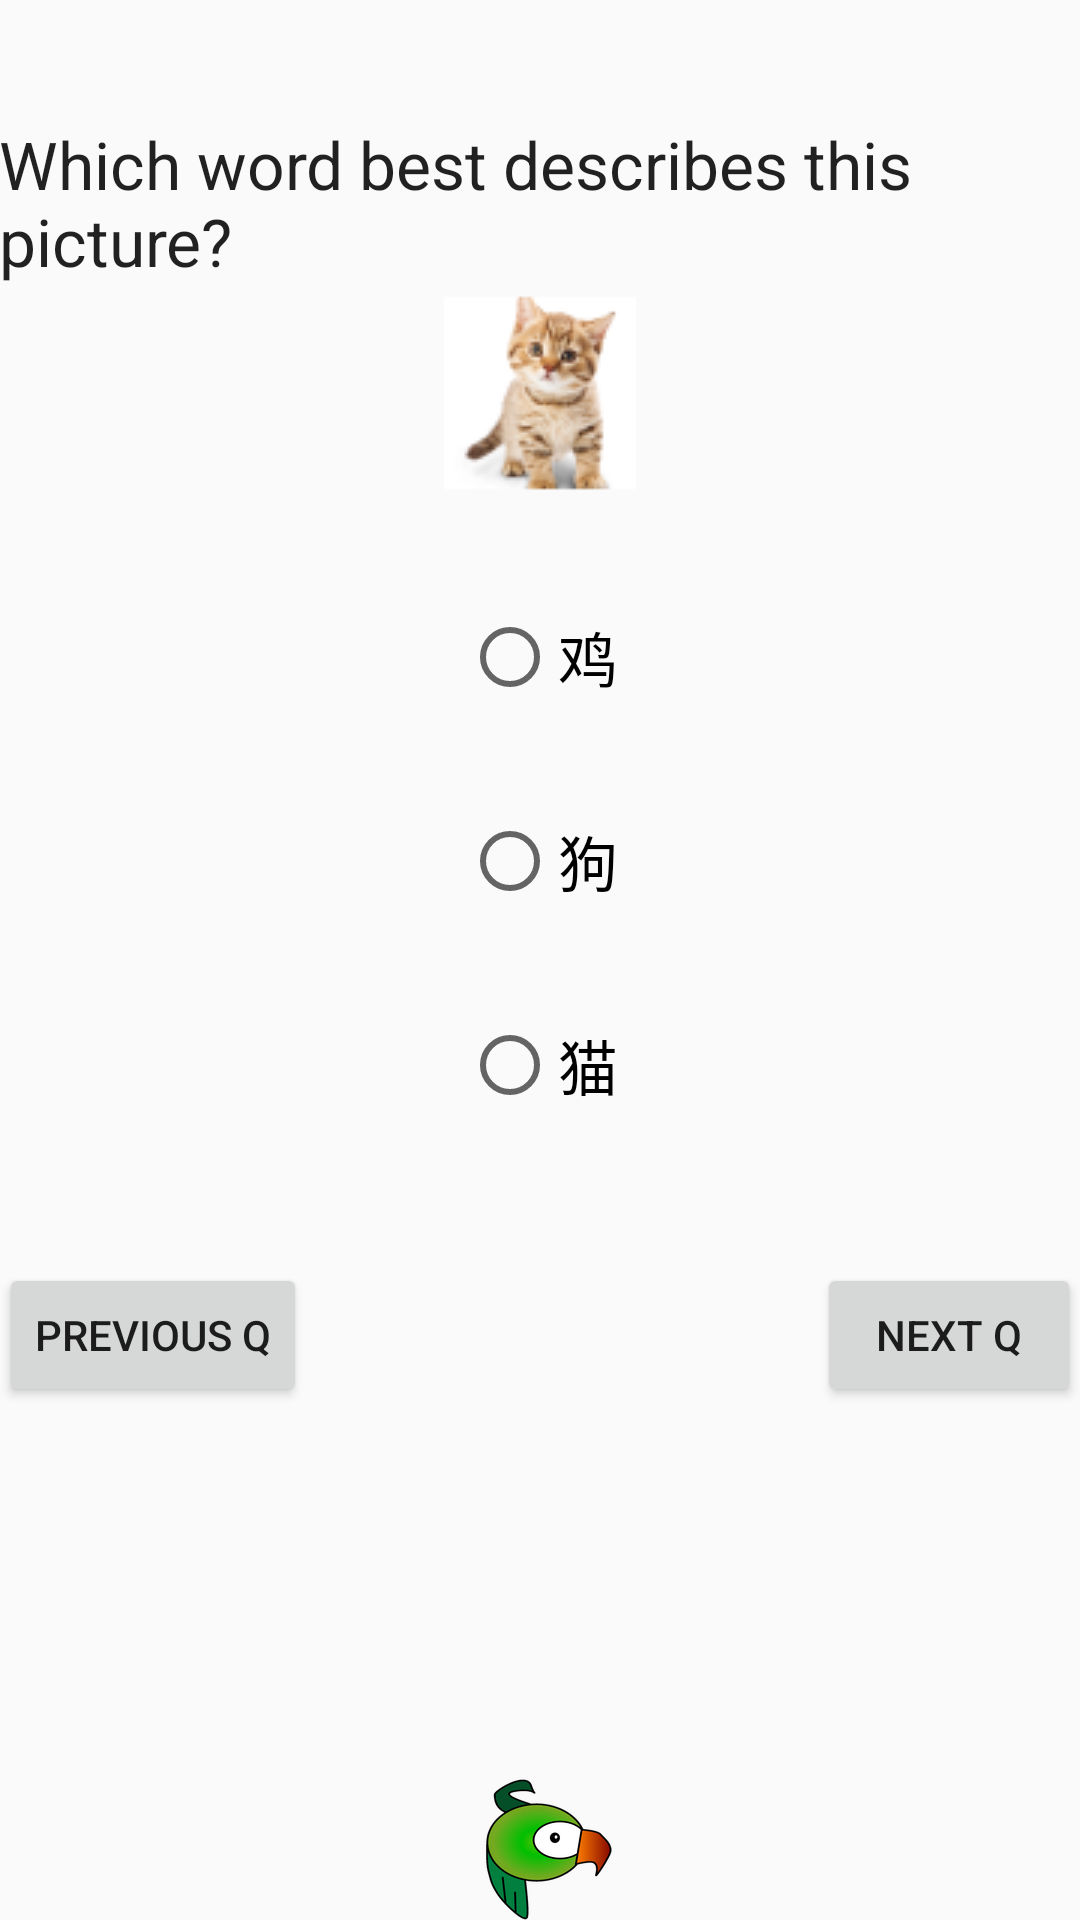

Locate icon controls on the screen. Image size 1080w x 1920h, boxes as bbox=[x1, y1, x2, y2].
cat: bbox=[464, 296, 616, 490]
